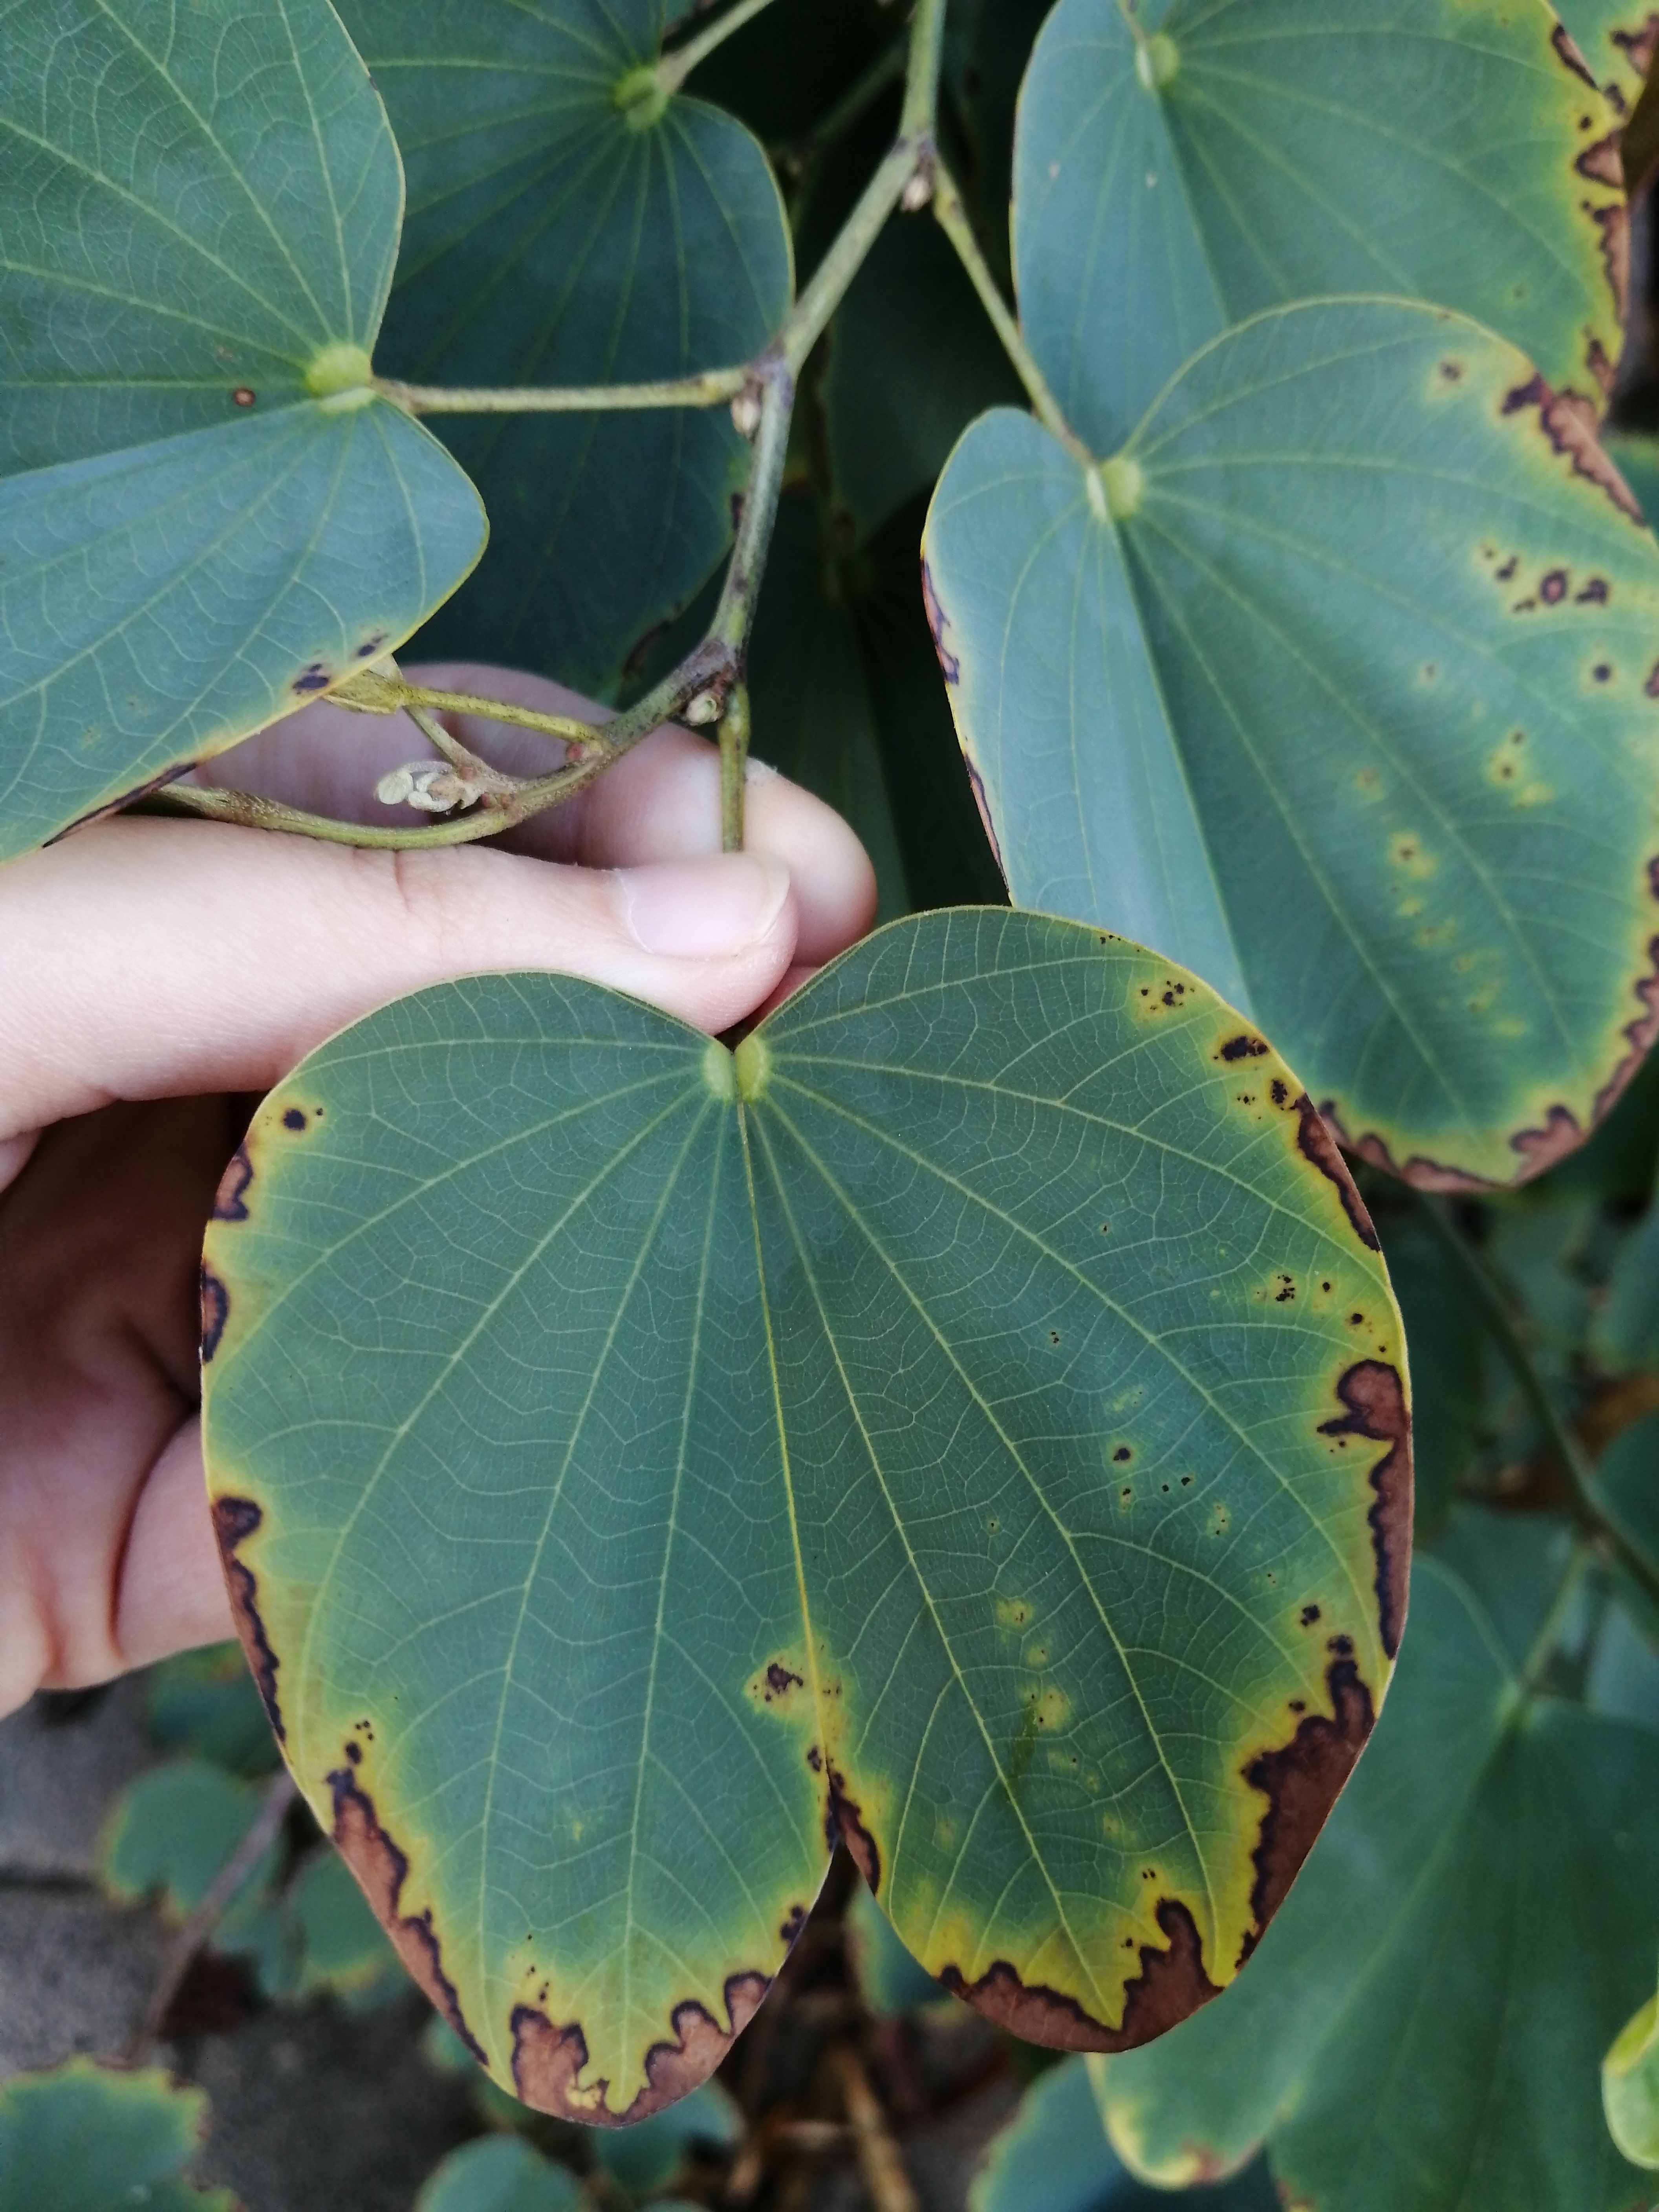nothealthy: (141, 975, 1459, 2137), (868, 298, 1659, 1228), (971, 3, 1659, 554)
